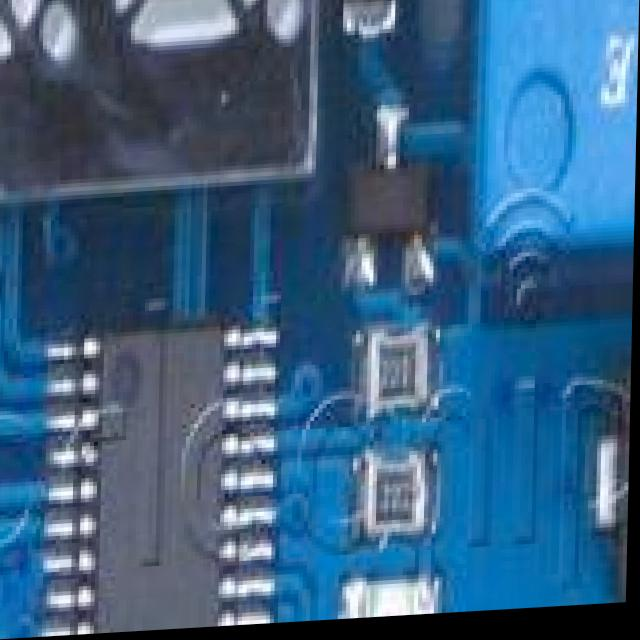IC: (69, 324, 246, 636), (609, 370, 633, 611)
LED: (357, 575, 446, 623)
diode: (335, 0, 408, 28)
display: (0, 0, 320, 212)
relay: (467, 0, 640, 246)
resistor: (364, 336, 426, 421), (366, 464, 428, 540)
transistor: (346, 123, 443, 304)
